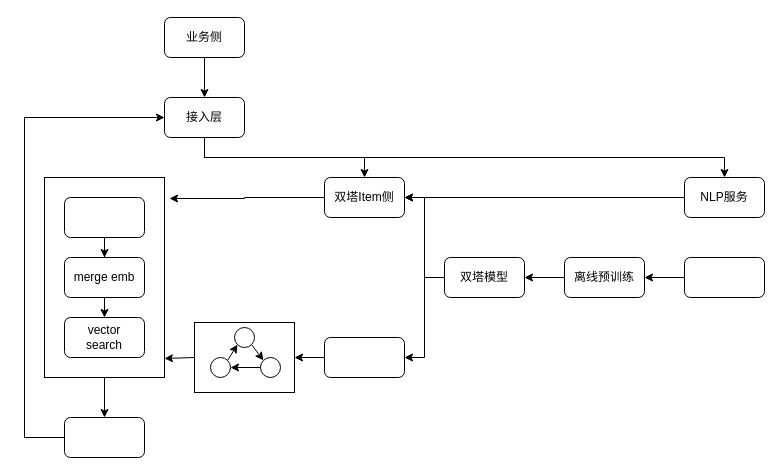
Image size: 782x475. Some labels were removed from this diagram. Here are the shapes that lost their labels. From the top down, the box of each, then its label:
(64, 196, 144, 238): get emb
(684, 256, 764, 298): NLP调向量
(324, 336, 404, 378): 双塔User侧
(64, 416, 144, 458): package merge
